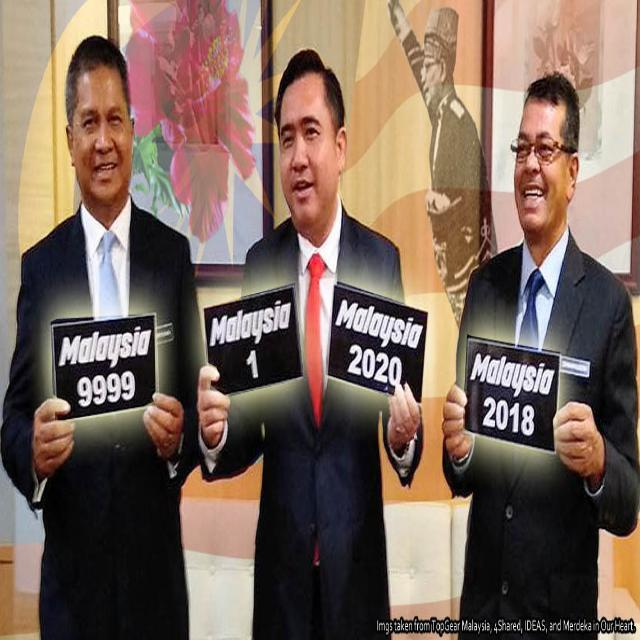car-plate: (323, 274, 427, 412), (462, 332, 562, 458), (52, 308, 156, 416), (203, 284, 304, 391)
